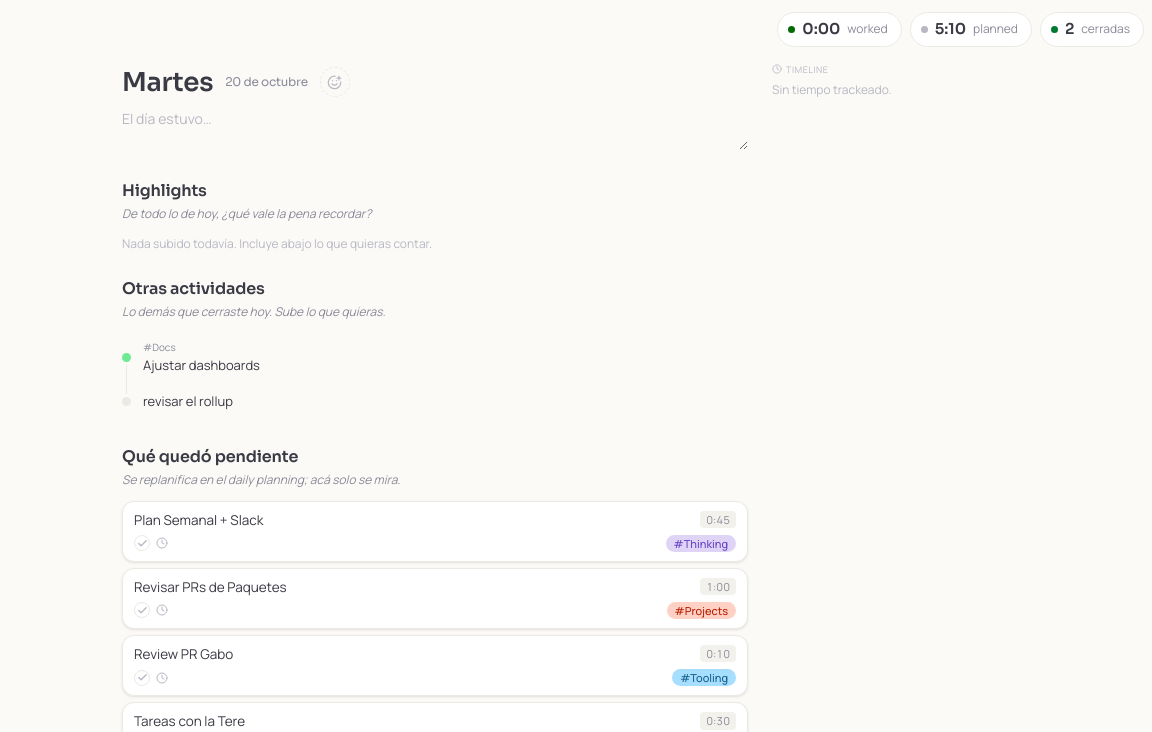
Test: DailyShutdownView › cerrar el día lo sella, tira confeti y lleva a la bitácora
Type keys "día largo pero salió"
(page scrolled)
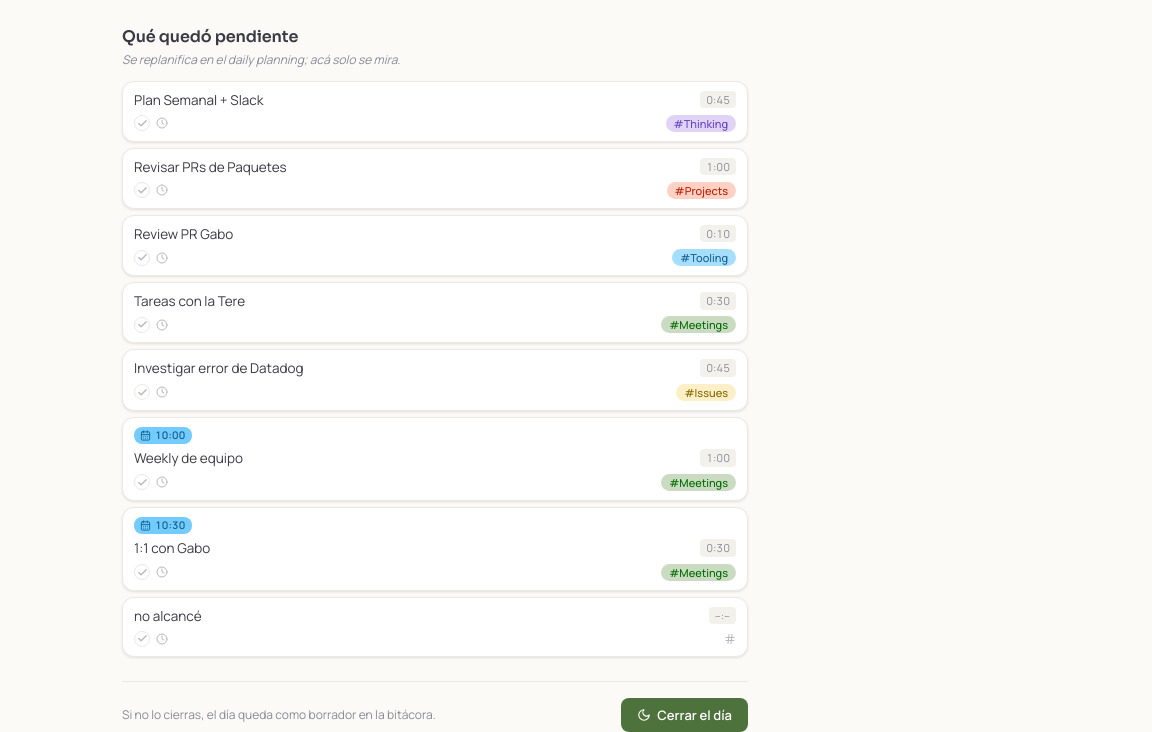
Click the button "Cerrar el día" at [685, 715], box [621,698,748,731]
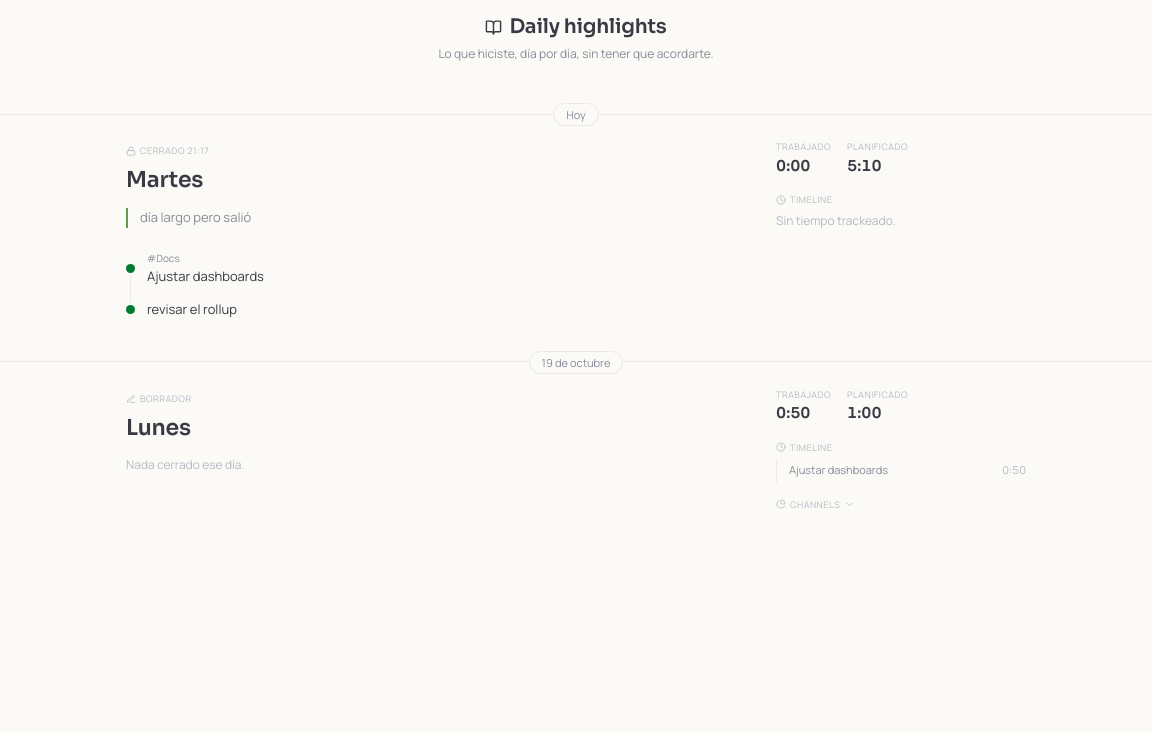
Expected: the heading "Daily highlights" is shown, [485,14,667,39]
Expected: the text "día largo pero salió" is shown, [126,208,752,228]
